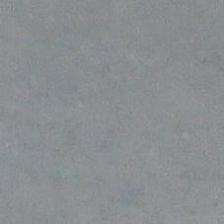Non_Crack: (13, 19, 213, 210)
